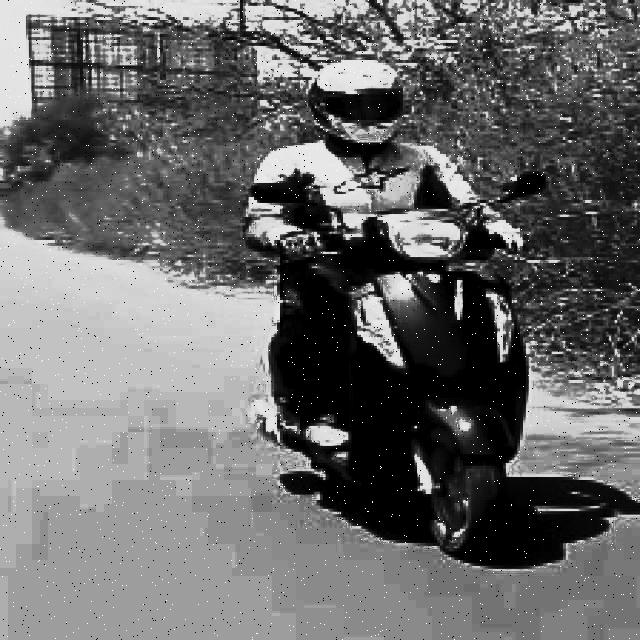Bike: (267, 209, 549, 568)
